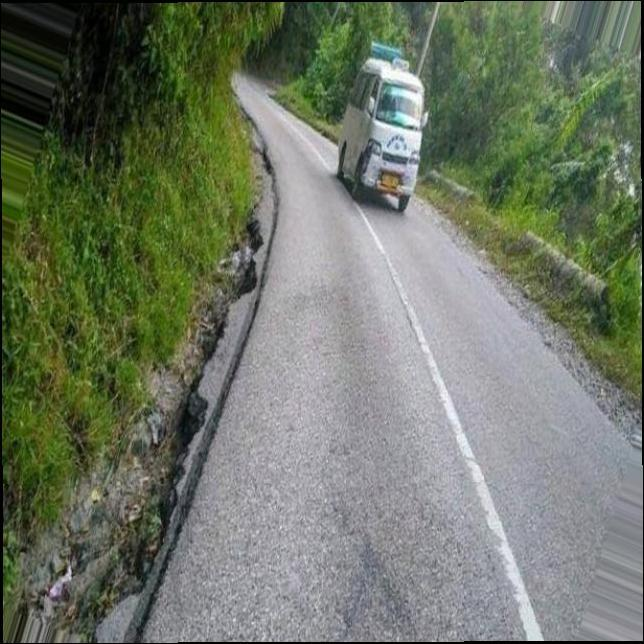Pinggir: (68, 160, 286, 644)
